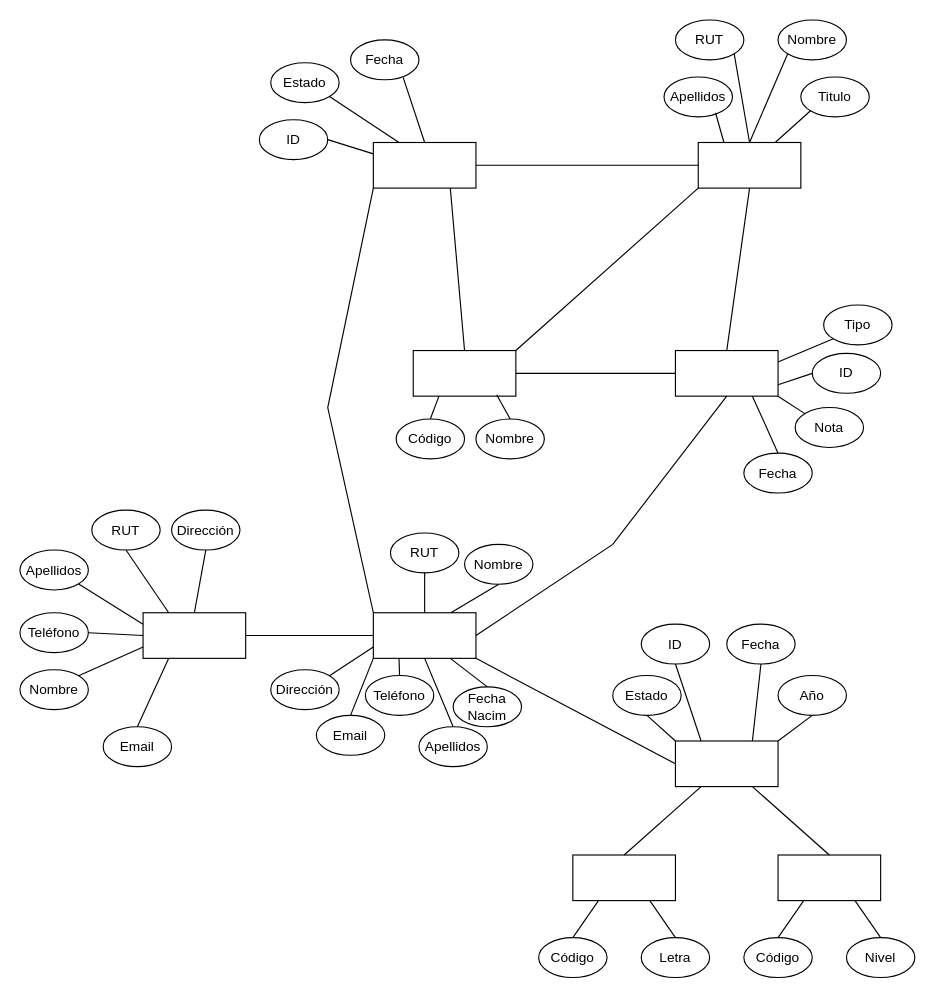
Some shapes in this 935 by 998 pixel diagram are drawn without their labels. The centre of each missing label's shape, as x and y in pixels:
"Alumno" goes at point 424,635.
"Apoderado" goes at point 194,635.
"Asignatura" goes at point 464,372.
"Asistencia" goes at point 424,164.
"Curso" goes at point 829,877.
"Evaluación" goes at point 726,372.
"Matrícula" goes at point 726,763.
"Profesor" goes at point 749,164.
"Sección" goes at point 623,877.
